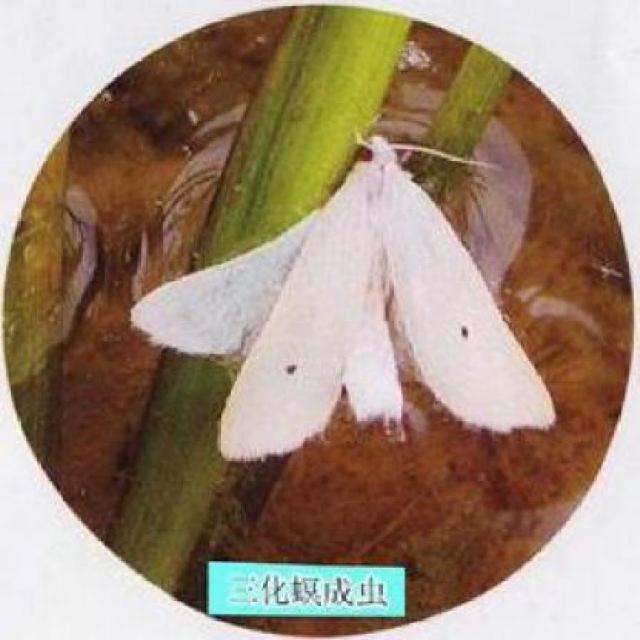stem-borer: (129, 135, 553, 458)
